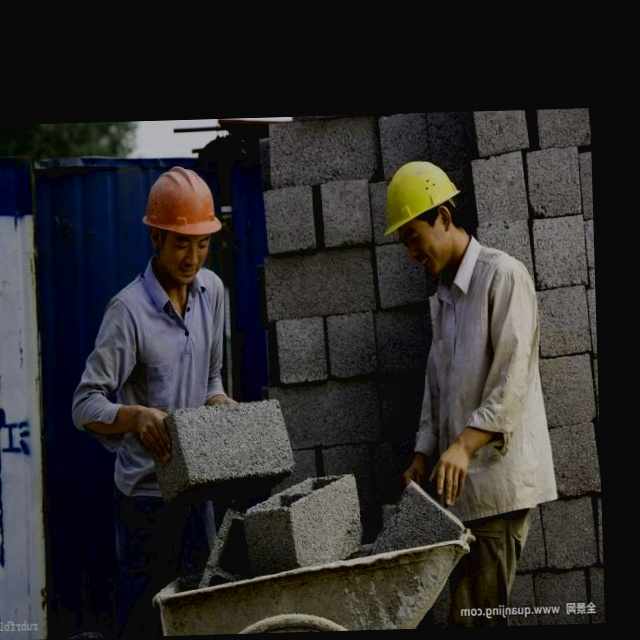Con_Casco: (141, 165, 226, 279), (381, 160, 460, 272)
Sin_Chaleco: (427, 269, 551, 516), (110, 275, 226, 488)
